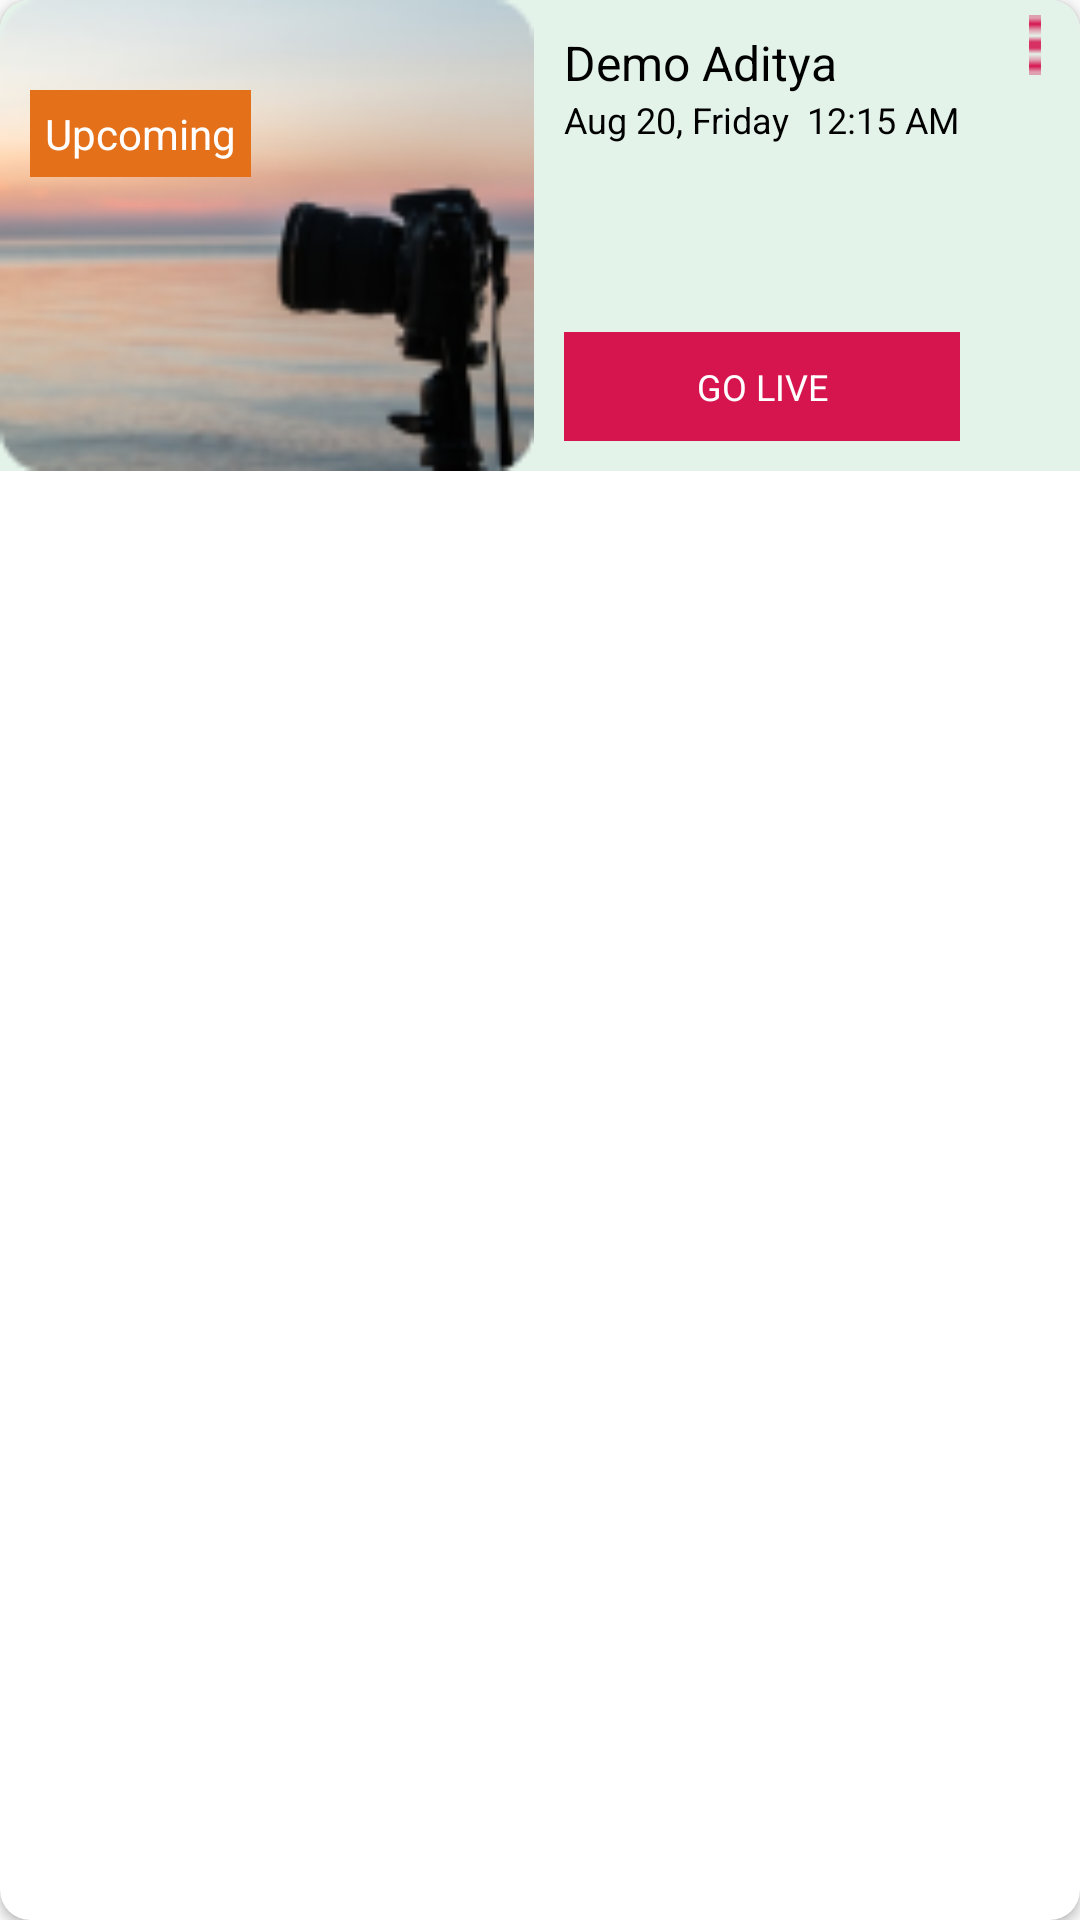

Icon bounding boxes for this 1080×1920 phone screenshot, format (x1, y1, x2, y2):
option: (1029, 15, 1041, 75)
